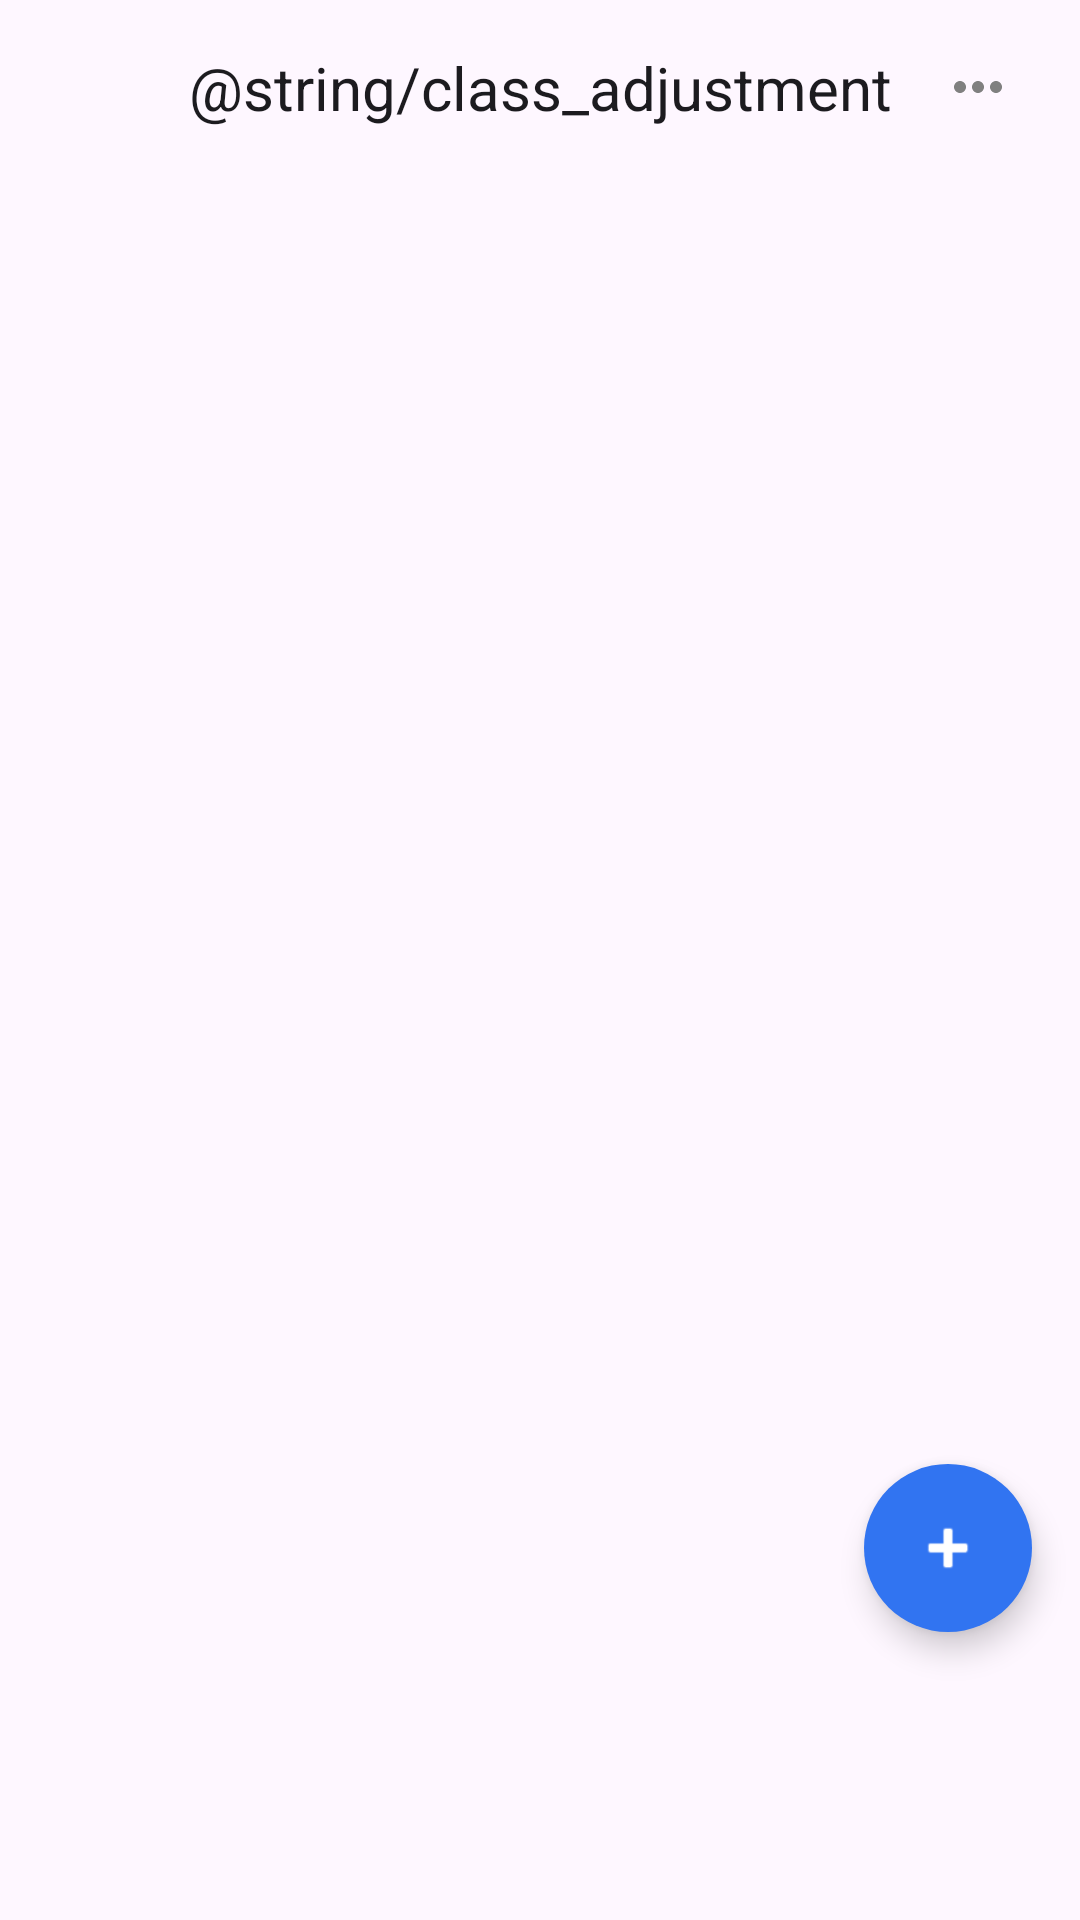

Screen size 1080 x 1920. Icon name, then its box in pixels as box=[x1, y1, x2, y2]:
add: box=[864, 1464, 1032, 1632]
more horiz: box=[954, 81, 1002, 93]
